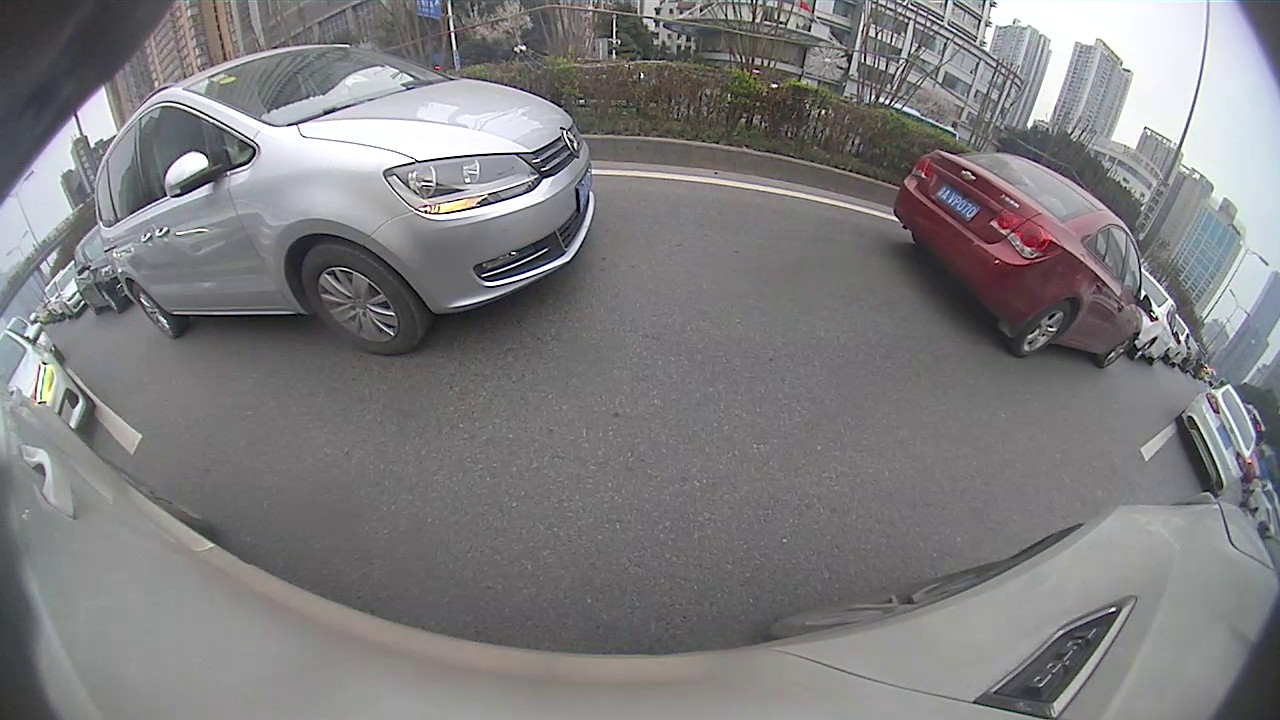bus: (523, 147, 580, 171)
car: (791, 115, 1178, 371), (371, 149, 495, 213), (655, 156, 690, 182), (540, 160, 575, 175), (627, 161, 649, 178)
front: (795, 187, 824, 241)
rear: (949, 242, 1040, 347)
